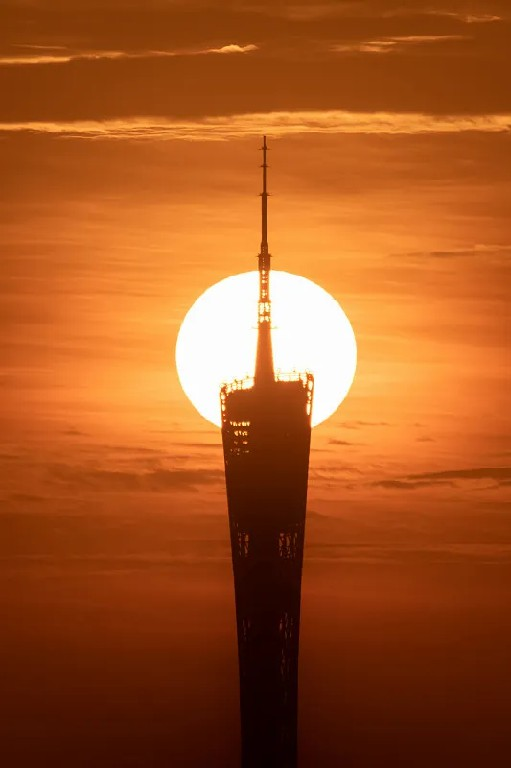Canton: (221, 135, 317, 768)
